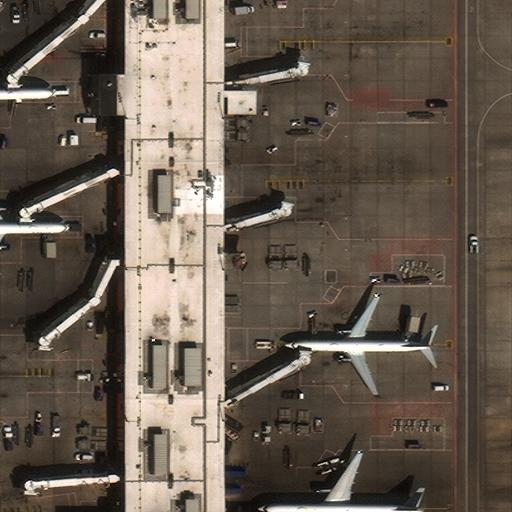Large Civil Transport: (257, 452, 424, 512), (0, 186, 69, 269), (0, 60, 54, 127)
Medium Civil Transport: (284, 294, 432, 396)
